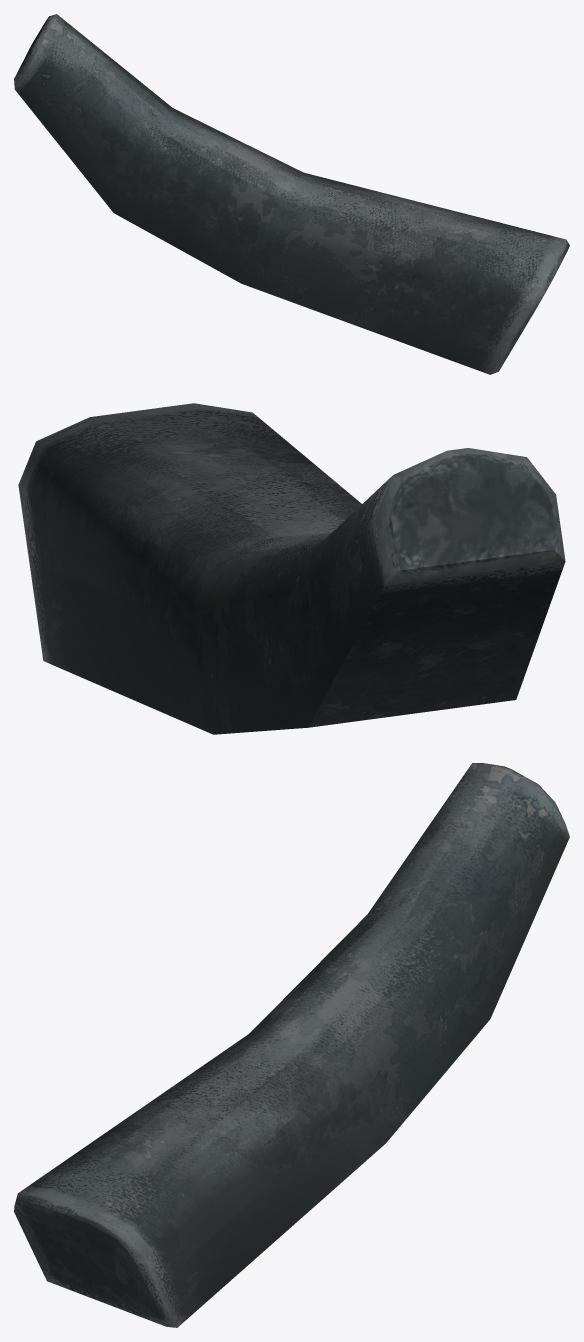
File: f2_roof_cube.fbx
3 renders of one model, top to bottom at view 1: azimuth 30°, elevation 25°; view 2: azimuth 150°, elevation 25°; view 3: azimuth 270°, elevation 25°, orthographic. The views are drawn at different scales.
Parts seen in each view (by area): view 1: rooftop_cobe02; view 2: rooftop_cobe02; view 3: rooftop_cobe02.
Part boxes in pixels (bbox=[...]): rooftop_cobe02: bbox=[14, 14, 569, 374]; rooftop_cobe02: bbox=[18, 403, 565, 734]; rooftop_cobe02: bbox=[14, 763, 569, 1327].
Size of the model in its own units: 7124 by 4696 by 6682.
